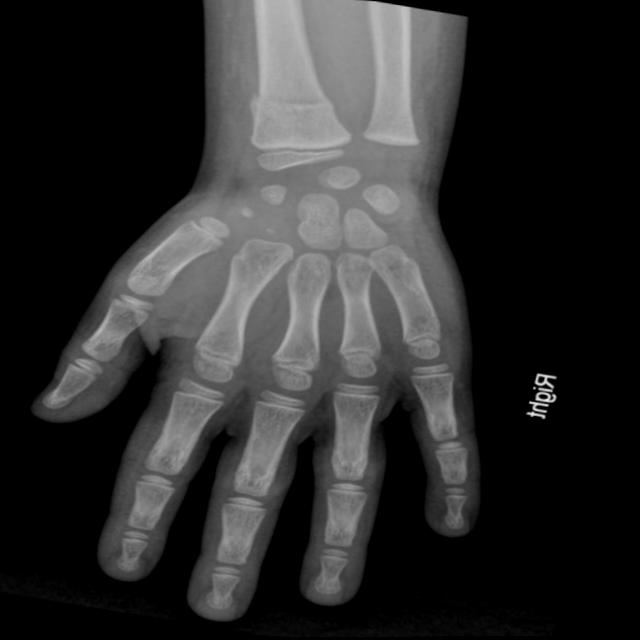Transverse Displaced: (234, 77, 347, 136)
